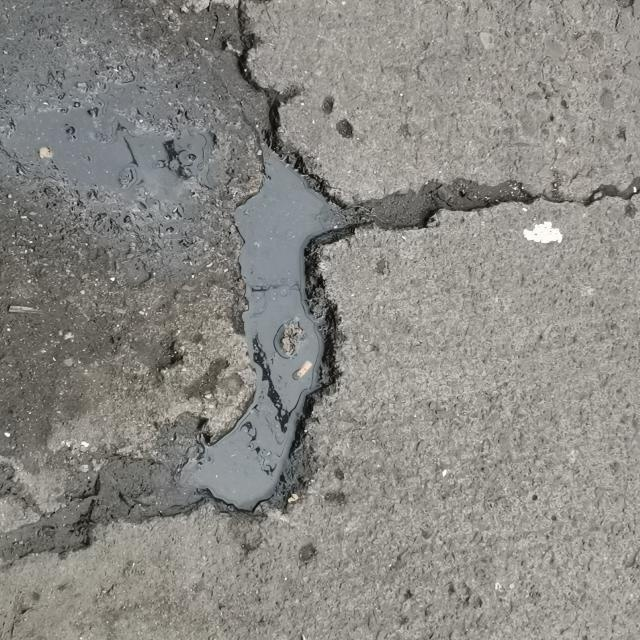pothole: (25, 11, 428, 518)
